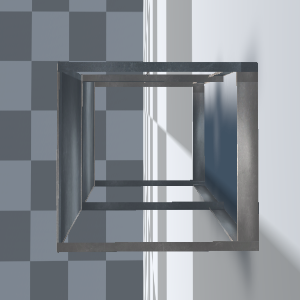Rack: (52, 59, 260, 253)
